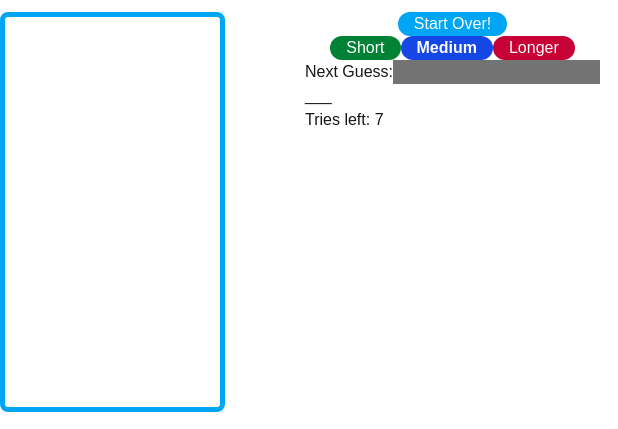
Test: SnowmanGame › decrements tries left after an incorrect guess
Step 1. Type "z" into the field labelled "Next Guess:" → (496, 72), box left=393, top=60, right=600, bottom=84
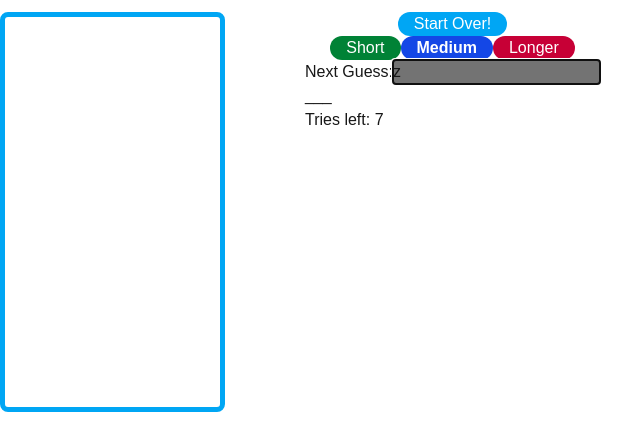
Step 2. Press Enter
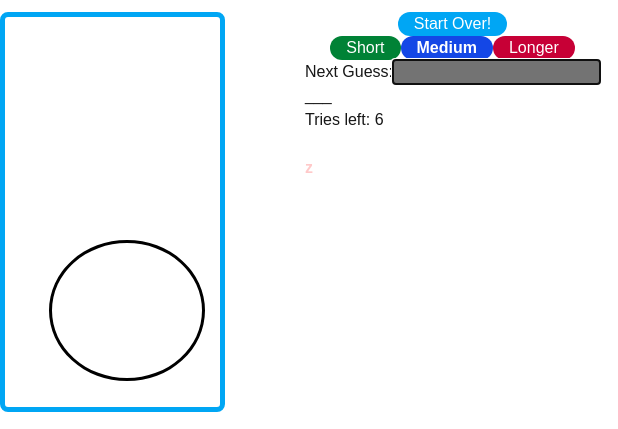
Expected: the text "Tries left: 6" is shown, left=305, top=111, right=384, bottom=128
